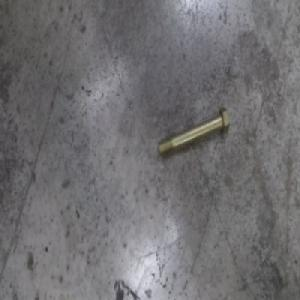Bolt: (157, 106, 229, 159)
